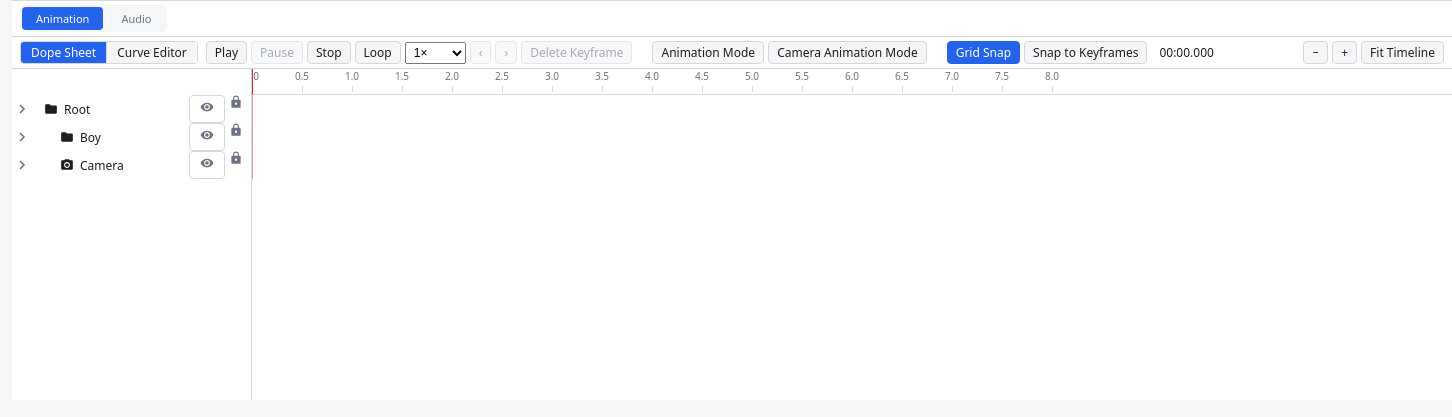
Scenario: Audio Tab Shell › shows empty state per lane when no audio
What coordinates should you click on to do the following:
click the tab with test id "timeline-tab-audio"
I would click on:
 (136, 18)
Its box is [107, 7, 166, 30].
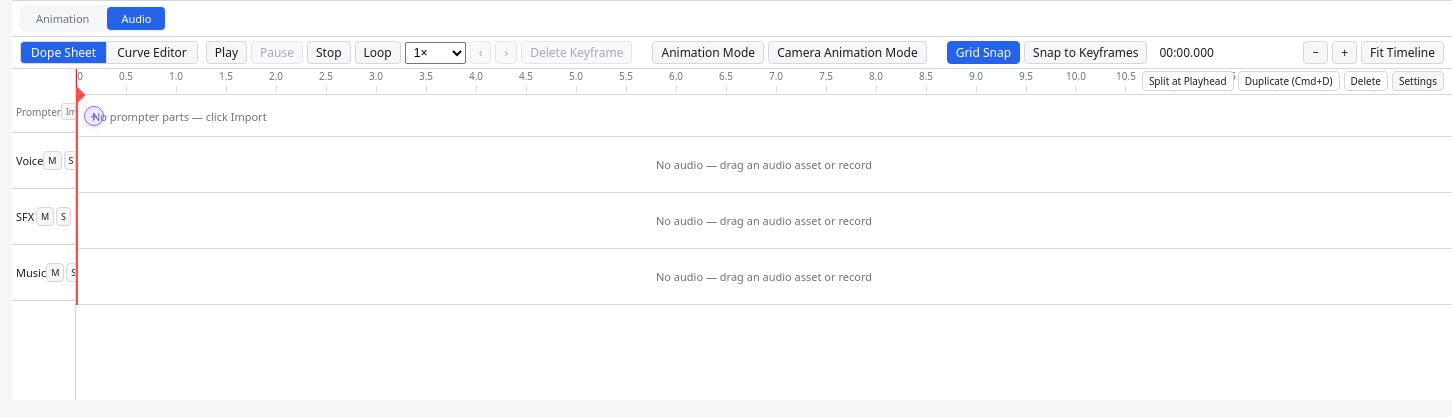
Expected: the element with test id "audio-prompter-strip" is shown, [76, 95, 1451, 137]
Expected: the element with test id "audio-lane-voice" is shown, [76, 137, 1451, 193]
Expected: the element with test id "audio-lane-sfx" is shown, [76, 193, 1451, 249]
